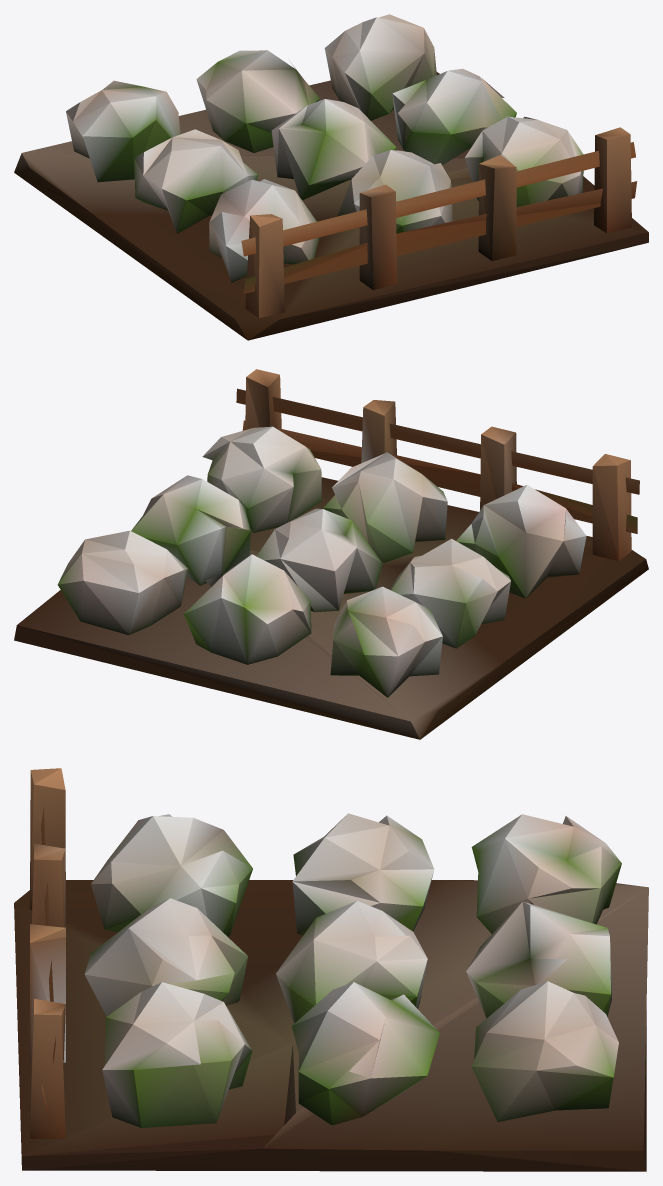
Rendered from cotton_lo.glb.
The picture shows the model from 3 angles, top to bottom: view 1: azimuth 30°, elevation 25°; view 2: azimuth 150°, elevation 25°; view 3: azimuth 270°, elevation 25°; orthographic projection. The views are drawn at different scales.
Parts seen in each view (by area): view 1: geometry_0; view 2: geometry_0; view 3: geometry_0.
Boxes of the visible parts, x1,y1,x2,y2 form: geometry_0: (14,14,648,340); geometry_0: (14,369,648,739); geometry_0: (14,768,648,1171).
Size of the model in its own units: 0.9385 by 0.2422 by 0.9322.
